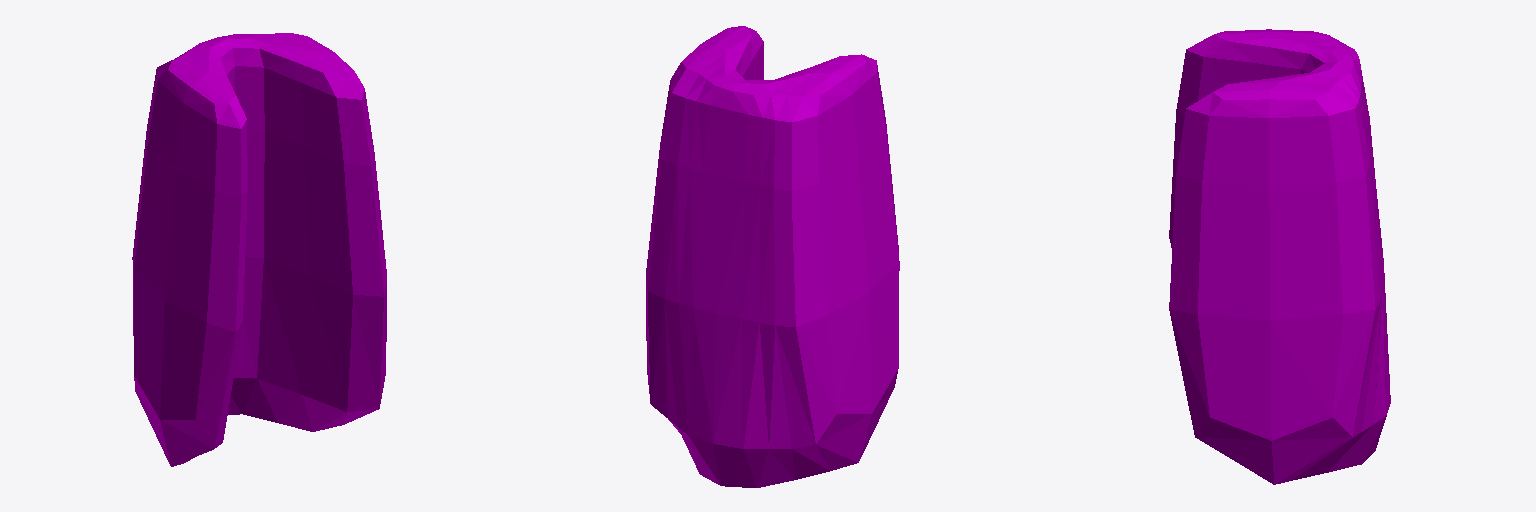
File: CapRB.obj
3 views of the same model, side by side, from view 1: azimuth 30°, elevation 25°; view 2: azimuth 150°, elevation 25°; view 3: azimuth 270°, elevation 25° (orthographic).
Visible parts, largest first — view 1: RainBow_Cube.008; view 2: RainBow_Cube.008; view 3: RainBow_Cube.008.
Part boxes in pixels (left/top/right/bottom): RainBow_Cube.008: left=132, top=33, right=386, bottom=466; RainBow_Cube.008: left=646, top=26, right=899, bottom=487; RainBow_Cube.008: left=1169, top=29, right=1390, bottom=484.
Bounding box in the file's own units: 1.68 × 3.14 × 1.62.